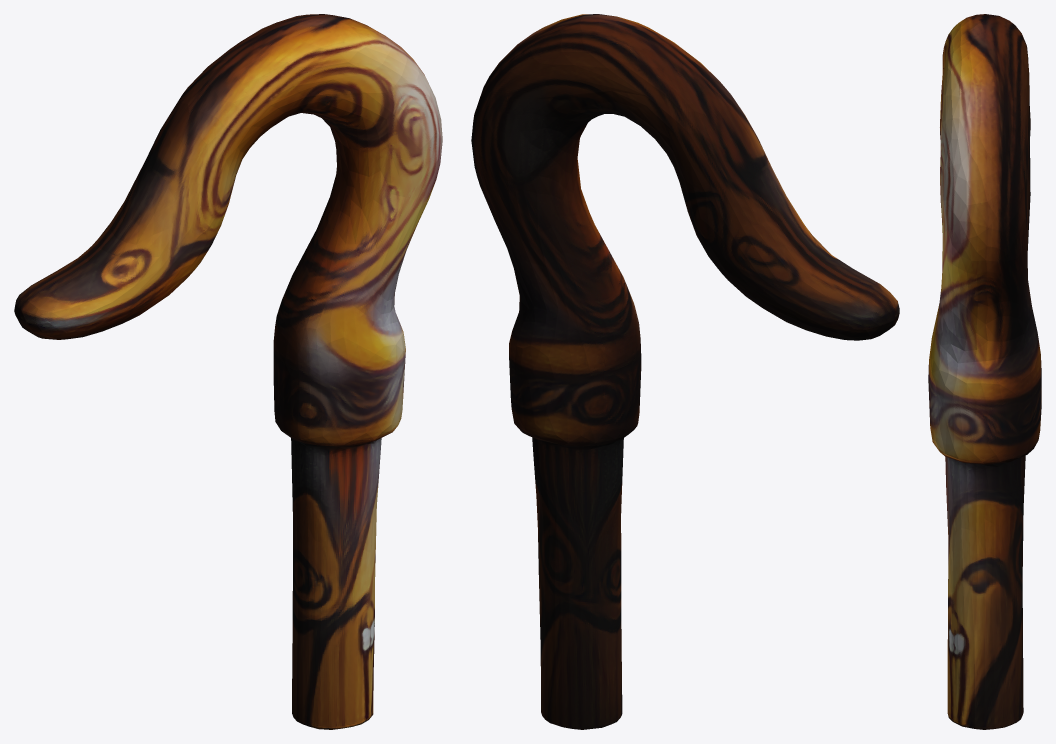
The model's file is wooden-cane-dune.jpeg.glb.
The picture shows the model from 3 angles, left to right: view 1: azimuth 30°, elevation 25°; view 2: azimuth 150°, elevation 25°; view 3: azimuth 270°, elevation 25°; orthographic projection. The views are drawn at different scales.
Visible parts, largest first — view 1: world; view 2: world; view 3: world.
Part boxes in pixels (x1=…): world: x1=14, y1=14, x2=442, y2=729; world: x1=471, y1=14, x2=899, y2=729; world: x1=928, y1=14, x2=1041, y2=729.
Bounding box in the file's own units: 0.6138 × 0.9862 × 0.1503.
1 material, 1 textured.
